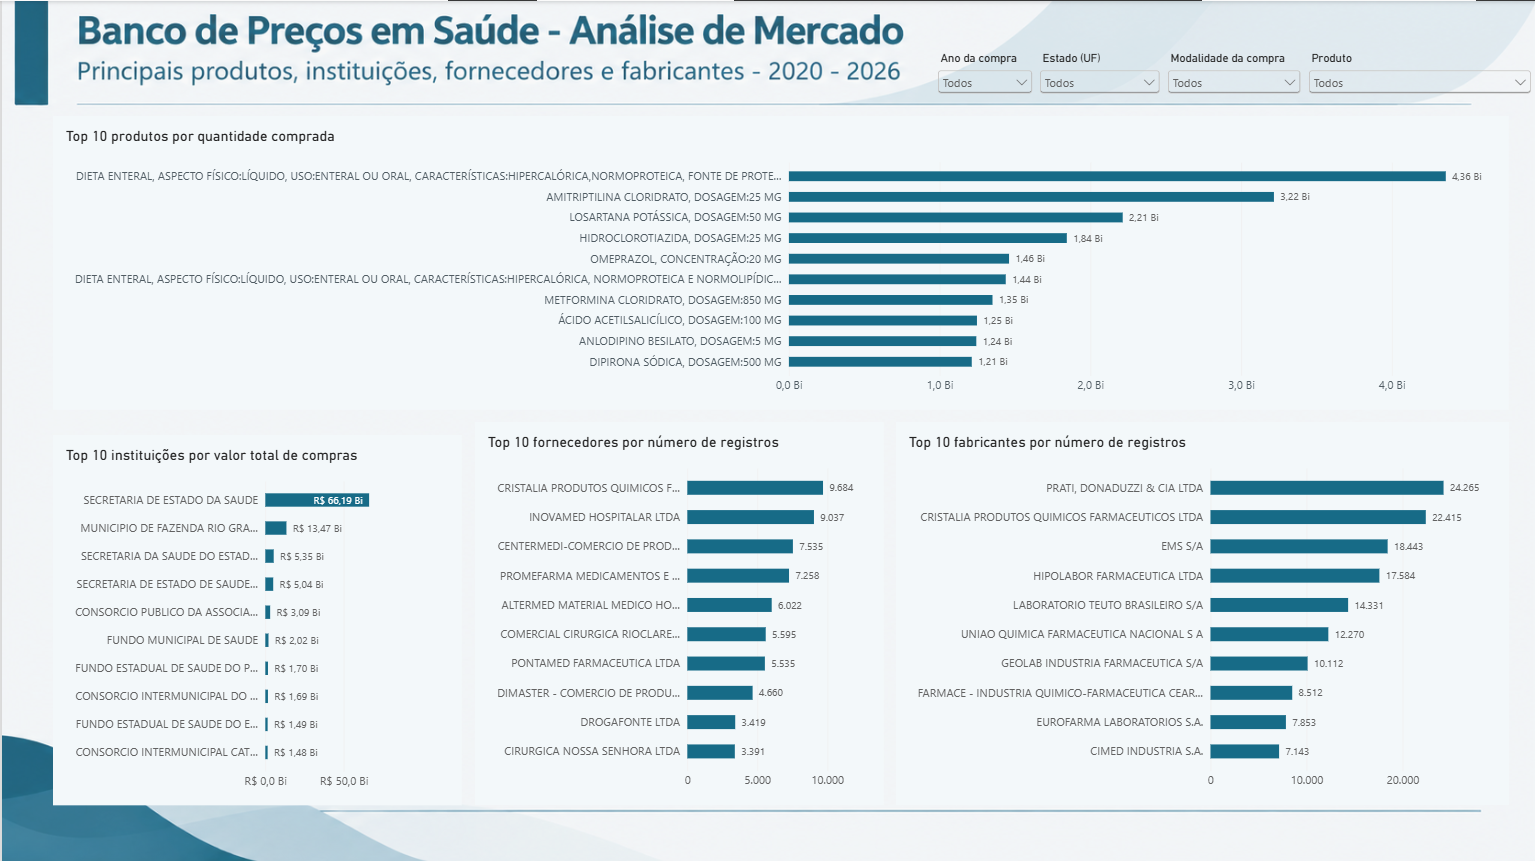

The dashboard page shown, as its layout file describes it:
{"tool":"powerbi","page":{"name":"Análise de Mercado","canvas":[1920,1080],"ordinal":1},"visuals":[{"type":"clusteredBarChart","title":"Top 10 instituições por valor total de compras","fields":{"Category":["dados.no_instituicao"],"Y":["dados.Valor Total Compras"]},"box":[64,544,512,464],"z":0},{"type":"clusteredBarChart","title":"Top 10 produtos por quantidade comprada","fields":{"Category":["dados.ds_item"],"Y":["dados.Quantidade Total"]},"box":[64,144,1824,368],"z":1000},{"type":"clusteredBarChart","title":"Top 10 fornecedores por número de registros","fields":{"Category":["dados.no_fornecedor"],"Y":["dados.Total de Registros"]},"box":[592,528,512,480],"z":2000},{"type":"clusteredBarChart","title":"Top 10 fabricantes por número de registros","fields":{"Category":["dados.no_fabricante"],"Y":["dados.Total de Registros"]},"box":[1120,528,768,480],"z":3000},{"type":"slicer","fields":{"Values":["dados.ano_compra"]},"box":[1168,64,128,80],"z":4000},{"type":"slicer","fields":{"Values":["dados.sg_uf"]},"box":[1296,64,160,80],"z":5000},{"type":"slicer","fields":{"Values":["dados.modalidade"]},"box":[1456,64,176,80],"z":6000},{"type":"slicer","fields":{"Values":["dados.Item Resumido"]},"box":[1632,64,288,96],"z":7000}]}

Visuals, with their boxes in screenshot pixels (x1, y1, x2, y2), scaled from the page's 1920x1080 canvas onto the 1535x861 screenshot:
"Top 10 instituições por valor total de compras" clusteredBarChart: x1=51 y1=434 x2=460 y2=804
"Top 10 produtos por quantidade comprada" clusteredBarChart: x1=51 y1=115 x2=1509 y2=408
"Top 10 fornecedores por número de registros" clusteredBarChart: x1=473 y1=421 x2=883 y2=804
"Top 10 fabricantes por número de registros" clusteredBarChart: x1=895 y1=421 x2=1509 y2=804
slicer - dados.ano_compra: x1=934 y1=51 x2=1036 y2=115
slicer - dados.sg_uf: x1=1036 y1=51 x2=1164 y2=115
slicer - dados.modalidade: x1=1164 y1=51 x2=1305 y2=115
slicer - dados.Item Resumido: x1=1305 y1=51 x2=1534 y2=128
